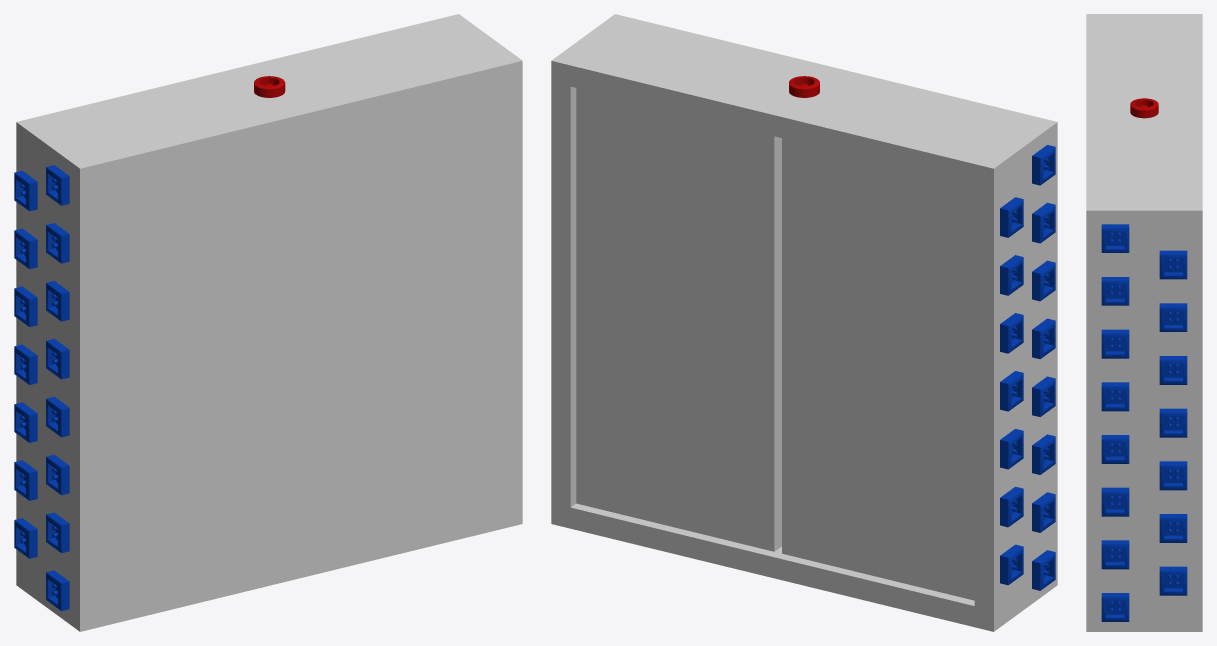
The model's file is Router.gltf.
3 renders of one model, left to right at view 1: azimuth 30°, elevation 25°; view 2: azimuth 150°, elevation 25°; view 3: azimuth 270°, elevation 25°, orthographic. The views are drawn at different scales.
Parts seen in each view (by area): view 1: Cube; view 2: Cube; view 3: Cube.
Boxes of the visible parts, left/top/right/bottom form: Cube: left=14, top=14, right=522, bottom=631; Cube: left=551, top=14, right=1057, bottom=631; Cube: left=1086, top=14, right=1202, bottom=631.
Bounding box in the file's own units: 1.04 × 1.02 × 0.25.
